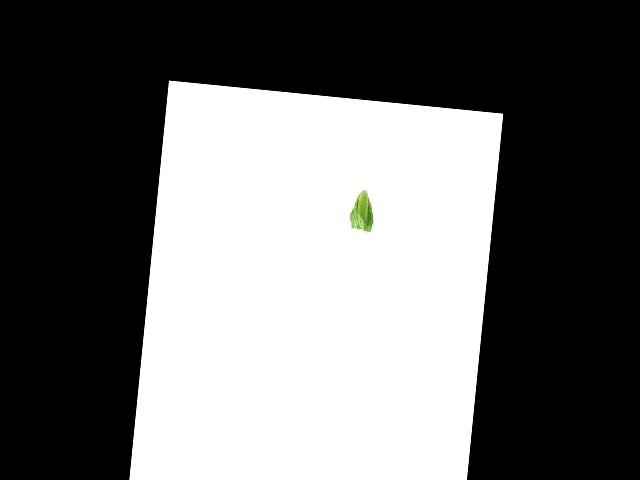lettuce: (344, 186, 379, 234)
